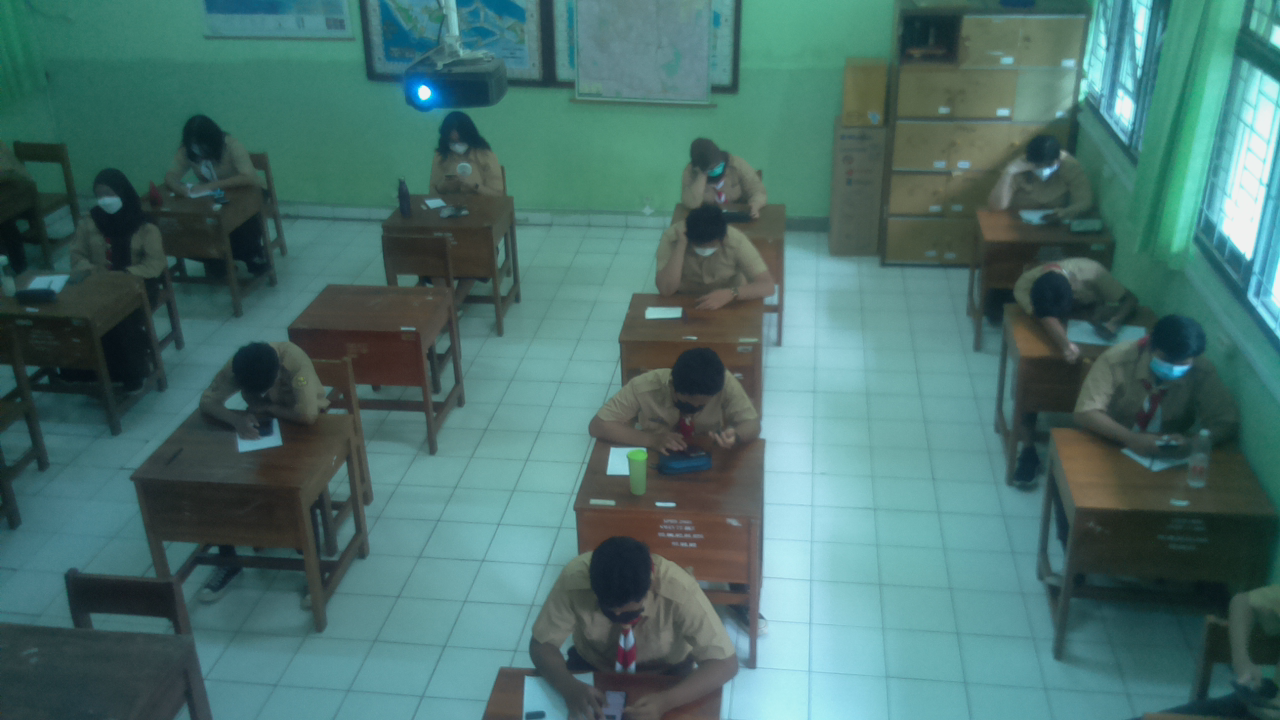Student: (551, 537, 707, 669), (1095, 311, 1222, 429), (623, 347, 741, 433), (661, 211, 755, 292), (83, 163, 152, 266), (1013, 253, 1117, 320), (223, 339, 319, 411), (173, 115, 254, 194), (1003, 137, 1081, 212), (683, 141, 759, 209), (431, 115, 498, 186)
